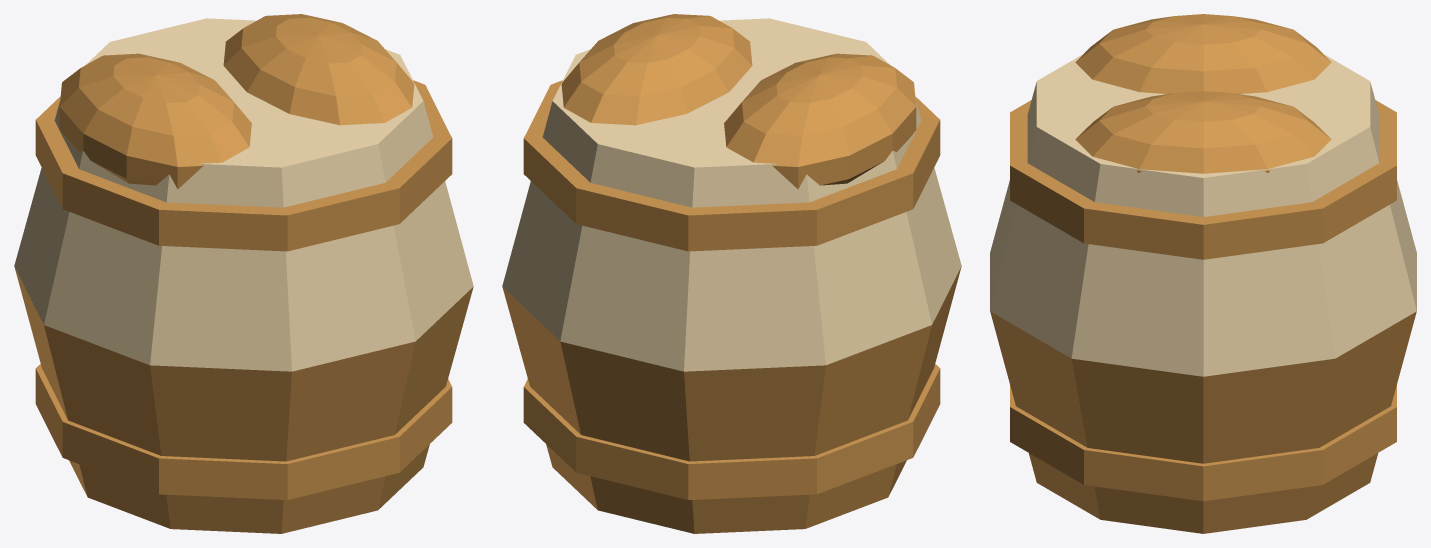
File: Basket.fbx
The picture shows the model from 3 angles, left to right: view 1: azimuth 30°, elevation 25°; view 2: azimuth 150°, elevation 25°; view 3: azimuth 270°, elevation 25°; orthographic projection. The views are drawn at different scales.
Visible parts, largest first — view 1: Basket.005; view 2: Basket.005; view 3: Basket.005.
Part boxes in pixels (x1,y1,x2,y2): Basket.005: (14, 14, 473, 533); Basket.005: (502, 14, 961, 533); Basket.005: (990, 14, 1416, 533).
Bounding box in the file's own units: 64 × 62 × 60.87.
